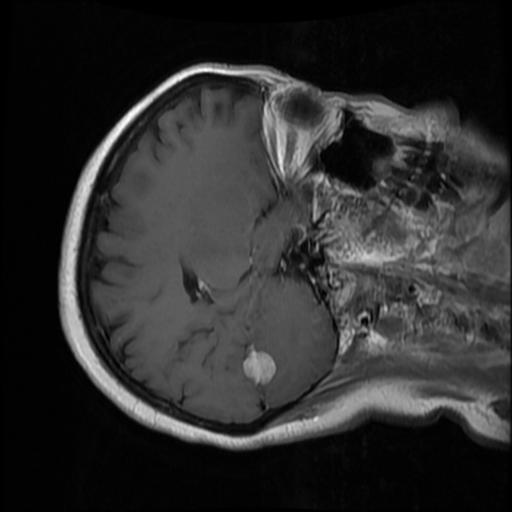meningioma: (241, 350, 275, 385)
